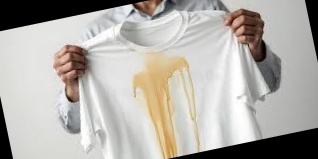coffee: (129, 53, 207, 159)
